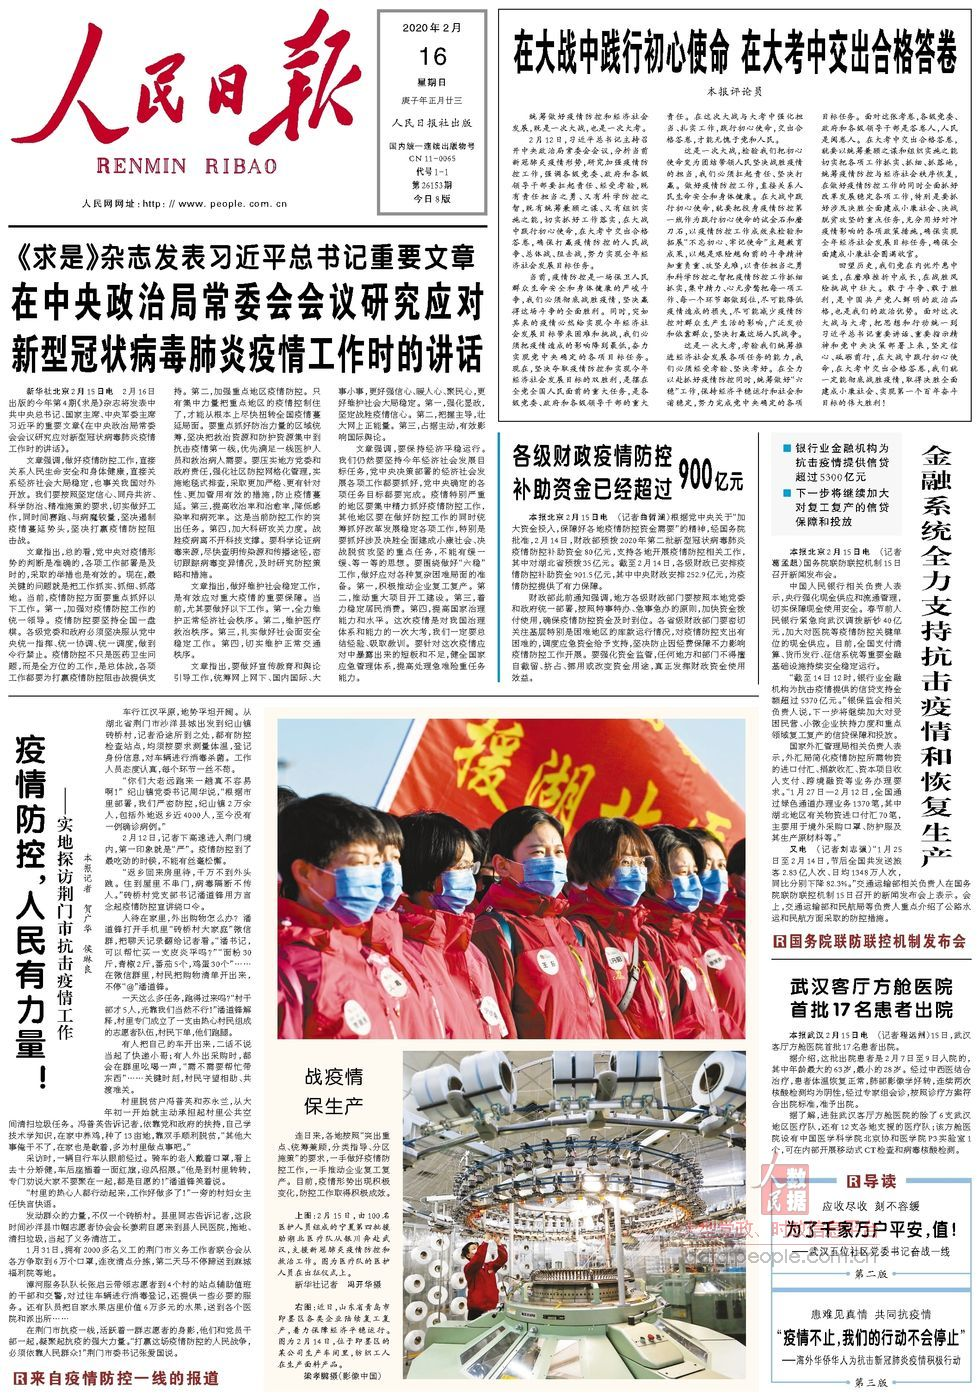pic: (272, 713, 750, 1044), (400, 1045, 752, 1385)
